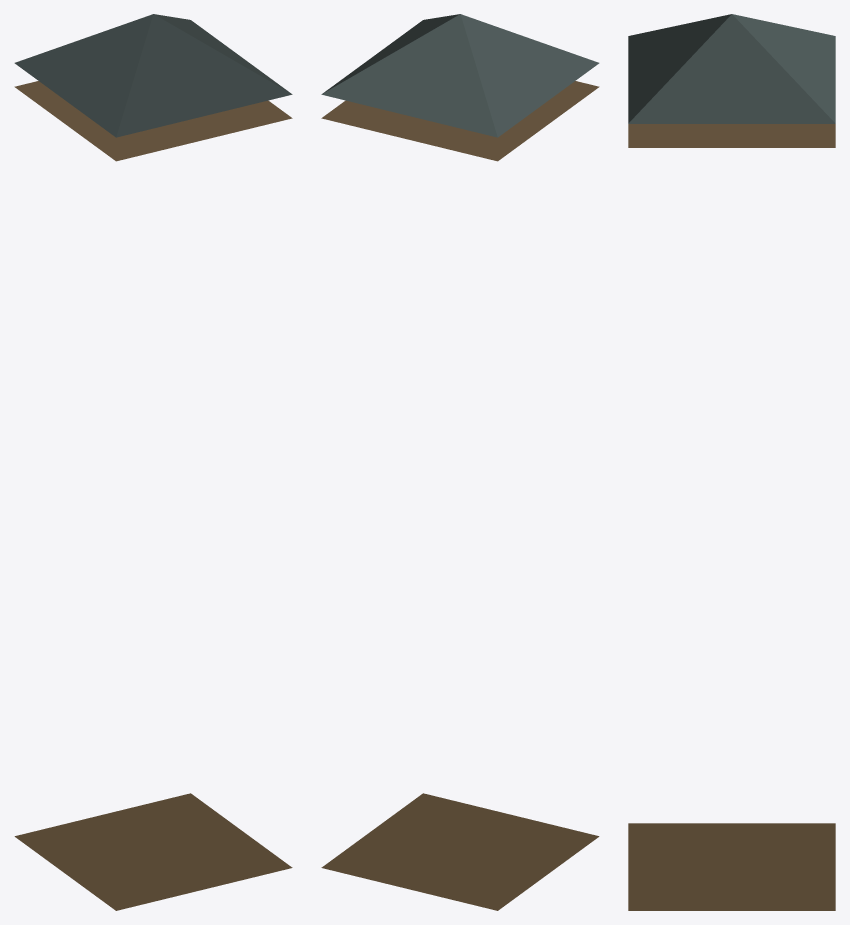
The model's file is Addition_A-Center.fbx.
3 views of the same model, side by side, from view 1: azimuth 30°, elevation 25°; view 2: azimuth 150°, elevation 25°; view 3: azimuth 270°, elevation 25° (orthographic).
Visible parts, largest first — view 1: Addition_A-Center; view 2: Addition_A-Center; view 3: Addition_A-Center.
Part boxes in pixels (<box>): Addition_A-Center: <box>14,14,292,910</box>; Addition_A-Center: <box>321,14,599,910</box>; Addition_A-Center: <box>628,14,835,910</box>.
Bounding box in the file's own units: 129 × 584 × 129.
